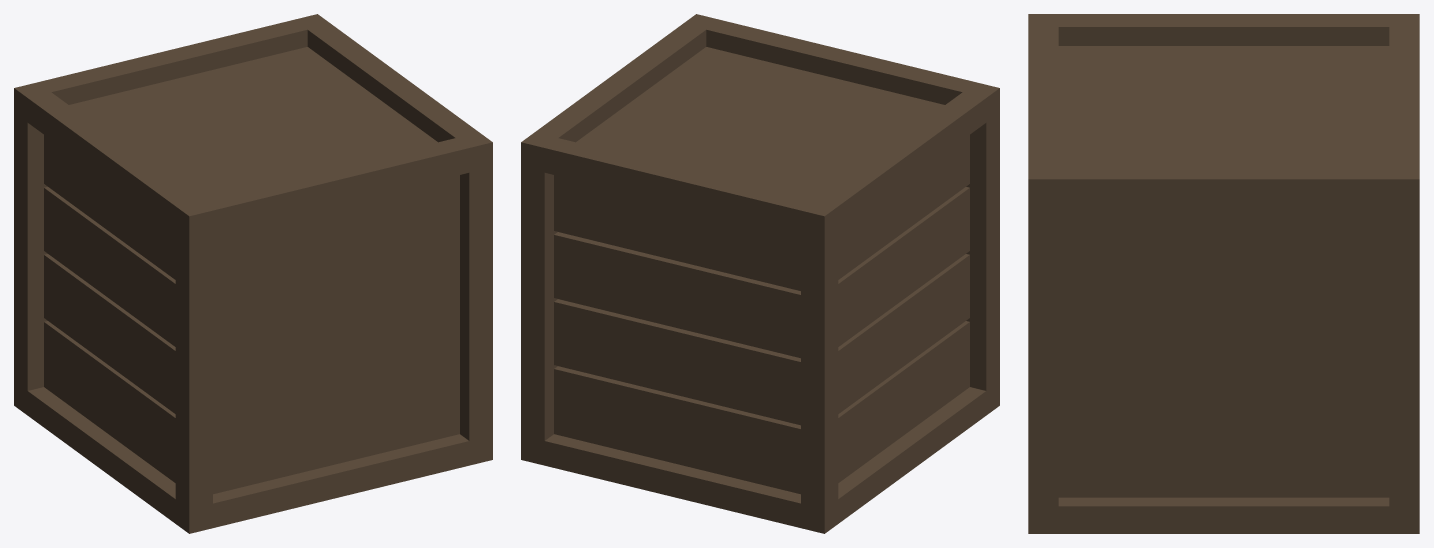
3 renders of one model, left to right at view 1: azimuth 30°, elevation 25°; view 2: azimuth 150°, elevation 25°; view 3: azimuth 270°, elevation 25°, orthographic. The views are drawn at different scales.
Visible parts, largest first — view 1: Cube.001; view 2: Cube.001; view 3: Cube.001.
Boxes of the visible parts, x1=… form: Cube.001: x1=14, y1=14, x2=492, y2=533; Cube.001: x1=521, y1=14, x2=999, y2=533; Cube.001: x1=1028, y1=14, x2=1419, y2=533.
Bounding box in the file's own units: 162 × 162 × 162.
